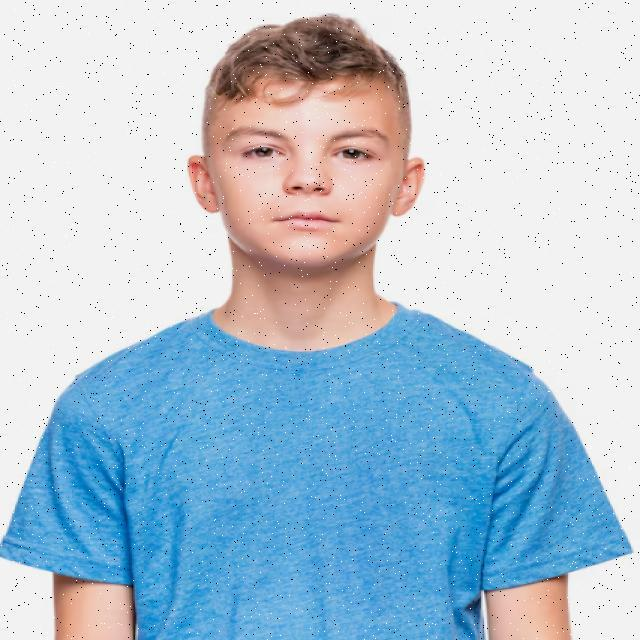face_no_mask: (180, 77, 432, 275)
